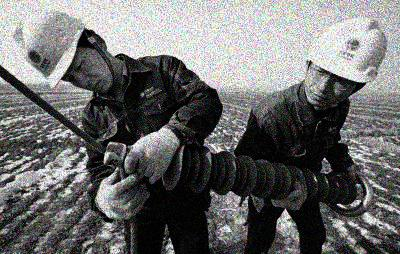helmet: (12, 8, 116, 96), (302, 16, 388, 105)
